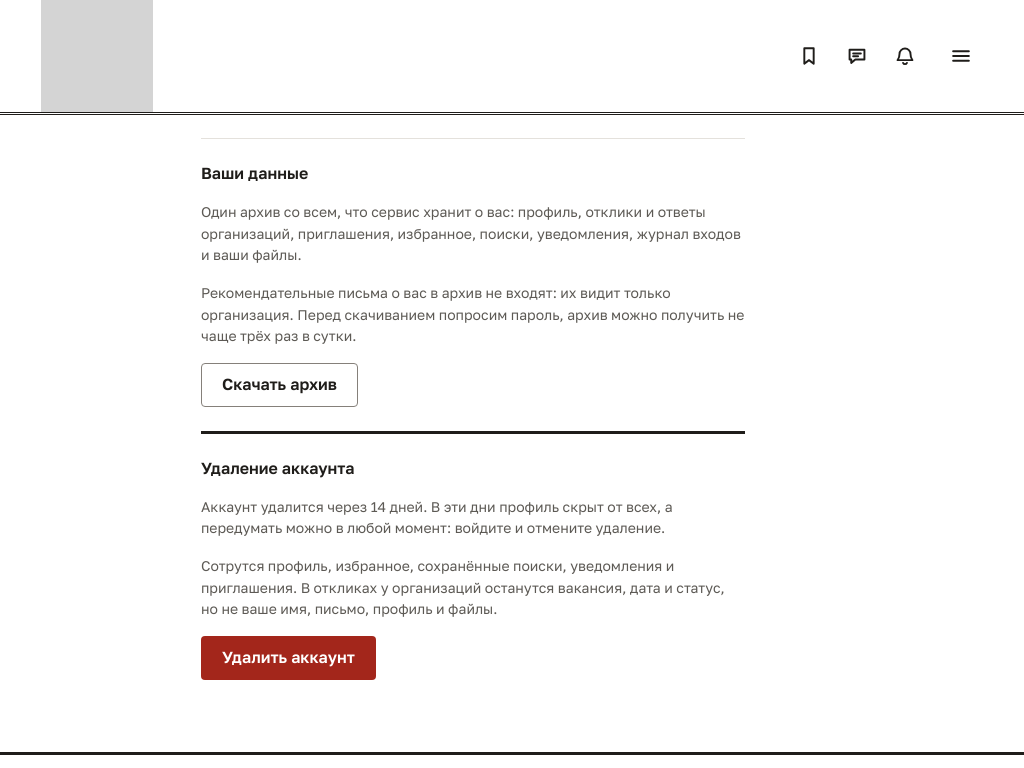
download of own data › tell when the daily limit is reached and when to come back
The image size is (1024, 768).
(page scrolled)
What coordinates should you click on to do the following:
click the button "Скачать архив"
I would click on:
 (280, 385)
Its box is x1=201 y1=363 x2=358 y2=407.
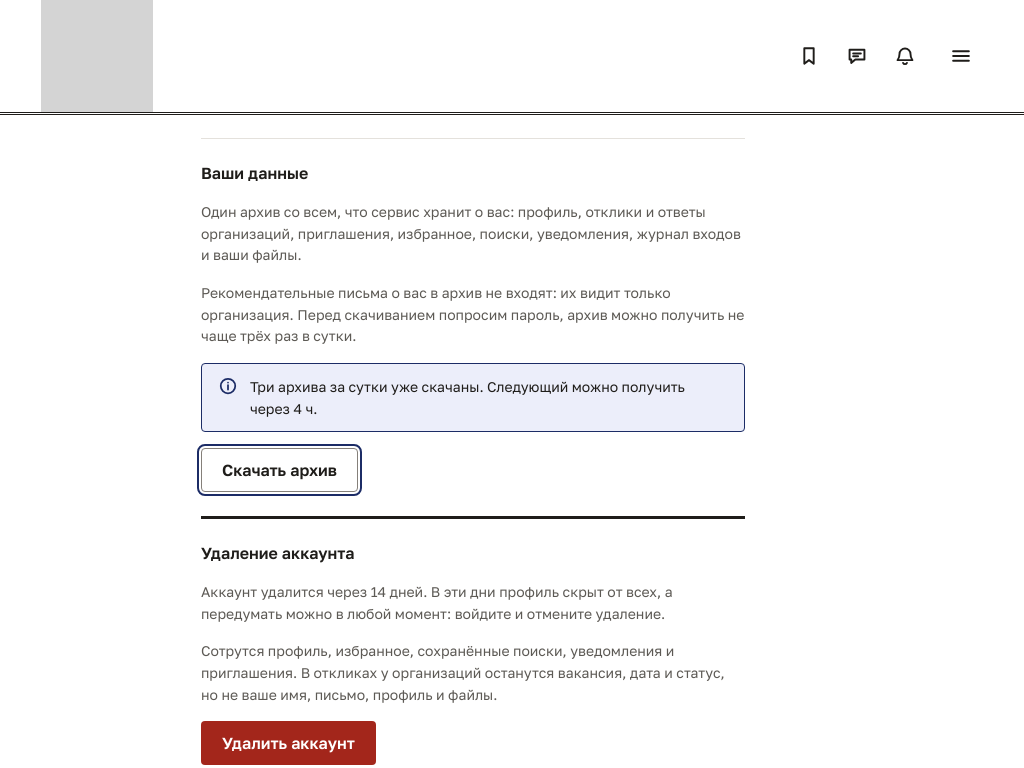
Expected: the text "Три архива за сутки уже скачаны. Следующий можно получить через 4 ч." is shown, x1=250 y1=376 x2=728 y2=419
